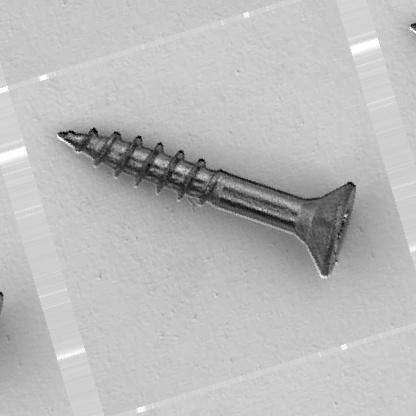metal: (57, 131, 358, 280)
